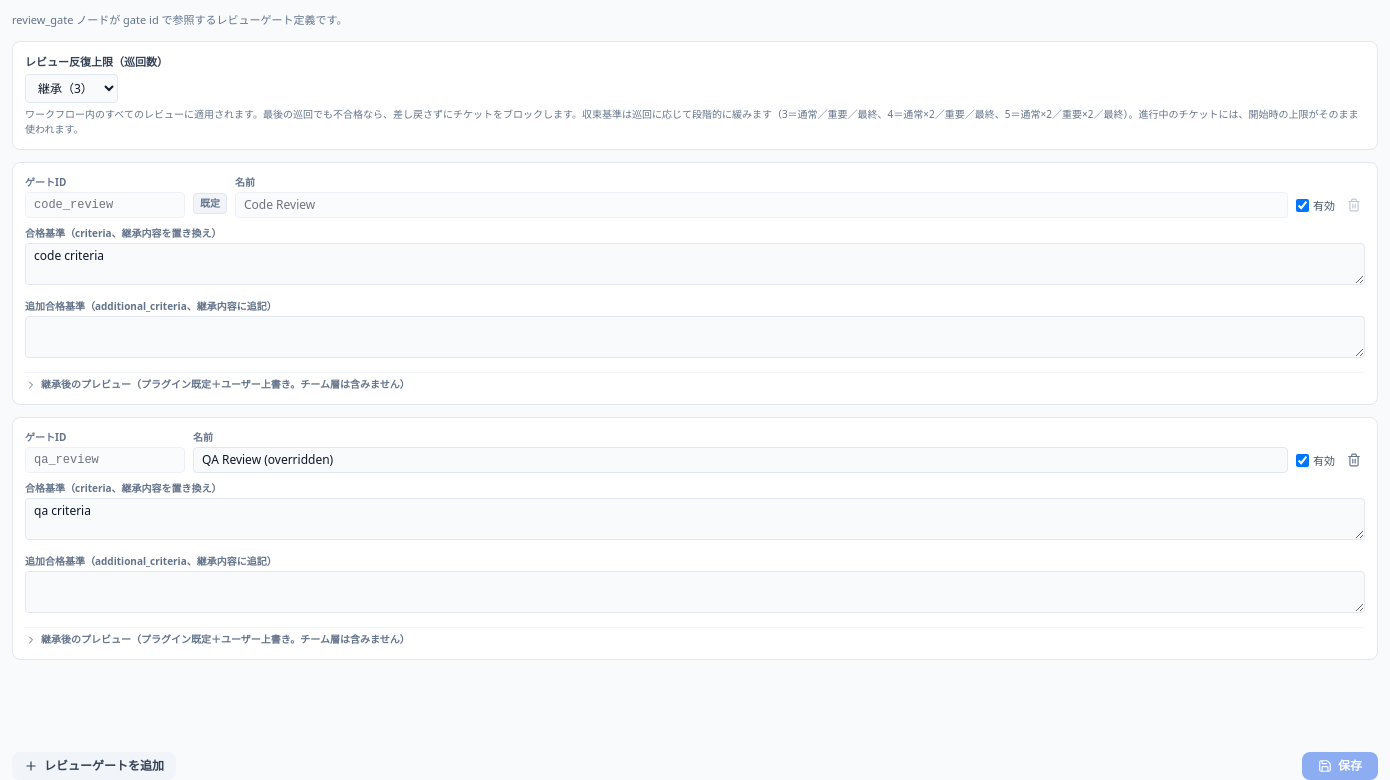
ReviewGatesEditor › keeps the name field editable for an already-overridden gate
Step 1. Type "!" into the 2nd field showing "QA Review (overridden)" → coordinates (740, 460), box top-left (193, 447), bottom-right (1288, 473)
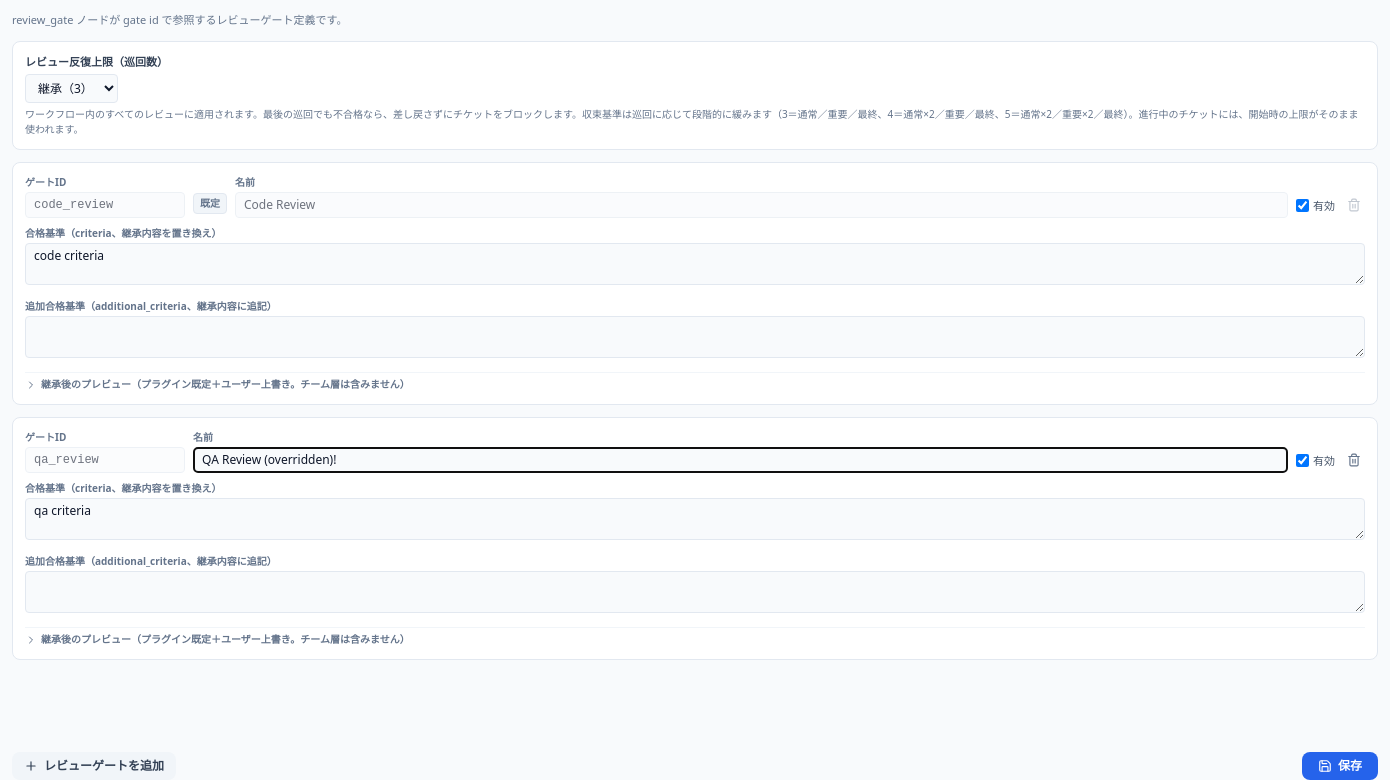
Check: the 2nd field showing "QA Review (overridden)!" is shown, box top-left (193, 447), bottom-right (1288, 473)
